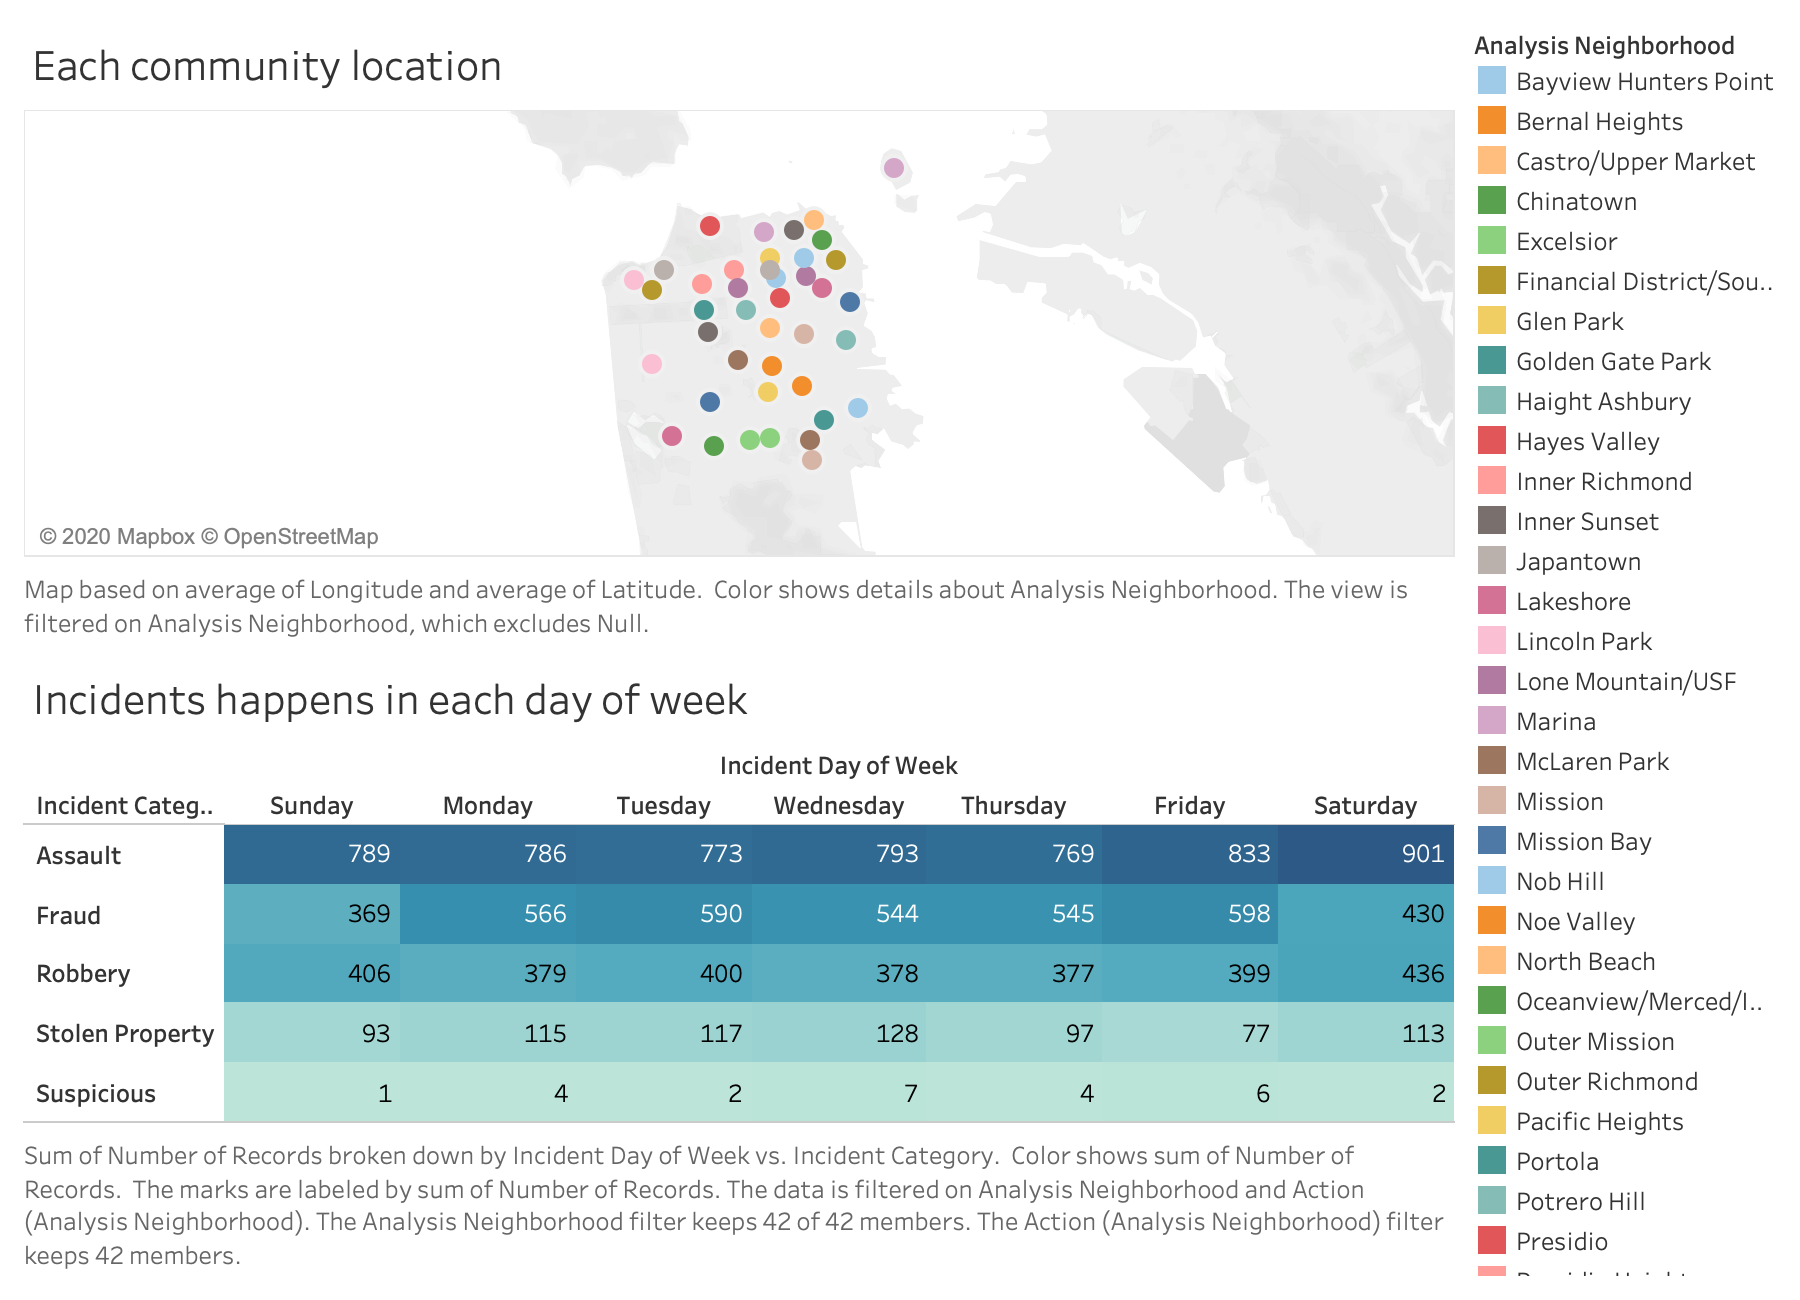

The dashboard page shown, as its layout file describes it:
{"tool":"tableau","page":{"name":"Dashboard 1","canvas":[960,600],"ordinal":0},"visuals":[{"type":"worksheet","title":"Sheet 1","mark":"Automatic","rows":["Latitude"],"cols":["Longitude"],"box":[8,8,784,292]},{"type":"legend","title":"Sheet 2","param":"[federated.1o79rk41ciwm1f13dqs9709it63u].[sum:Number of Records:qk]","box":[792,8,160,65]},{"type":"worksheet","title":"Sheet 2","mark":"Square","rows":["IncidentCategory"],"cols":["IncidentDay"],"box":[8,300,784,292]}]}

Visuals, with their boxes on the page's 960x600 design canvas (x1, y1, x2, y2). These are canvas units, not pixel positions in the 1800x1300 screenshot, which may show the page scaled, cropped or inside an application window:
"Sheet 1" worksheet: bbox(8, 8, 792, 300)
"Sheet 2" legend: bbox(792, 8, 952, 73)
"Sheet 2" worksheet (Square marks): bbox(8, 300, 792, 592)
